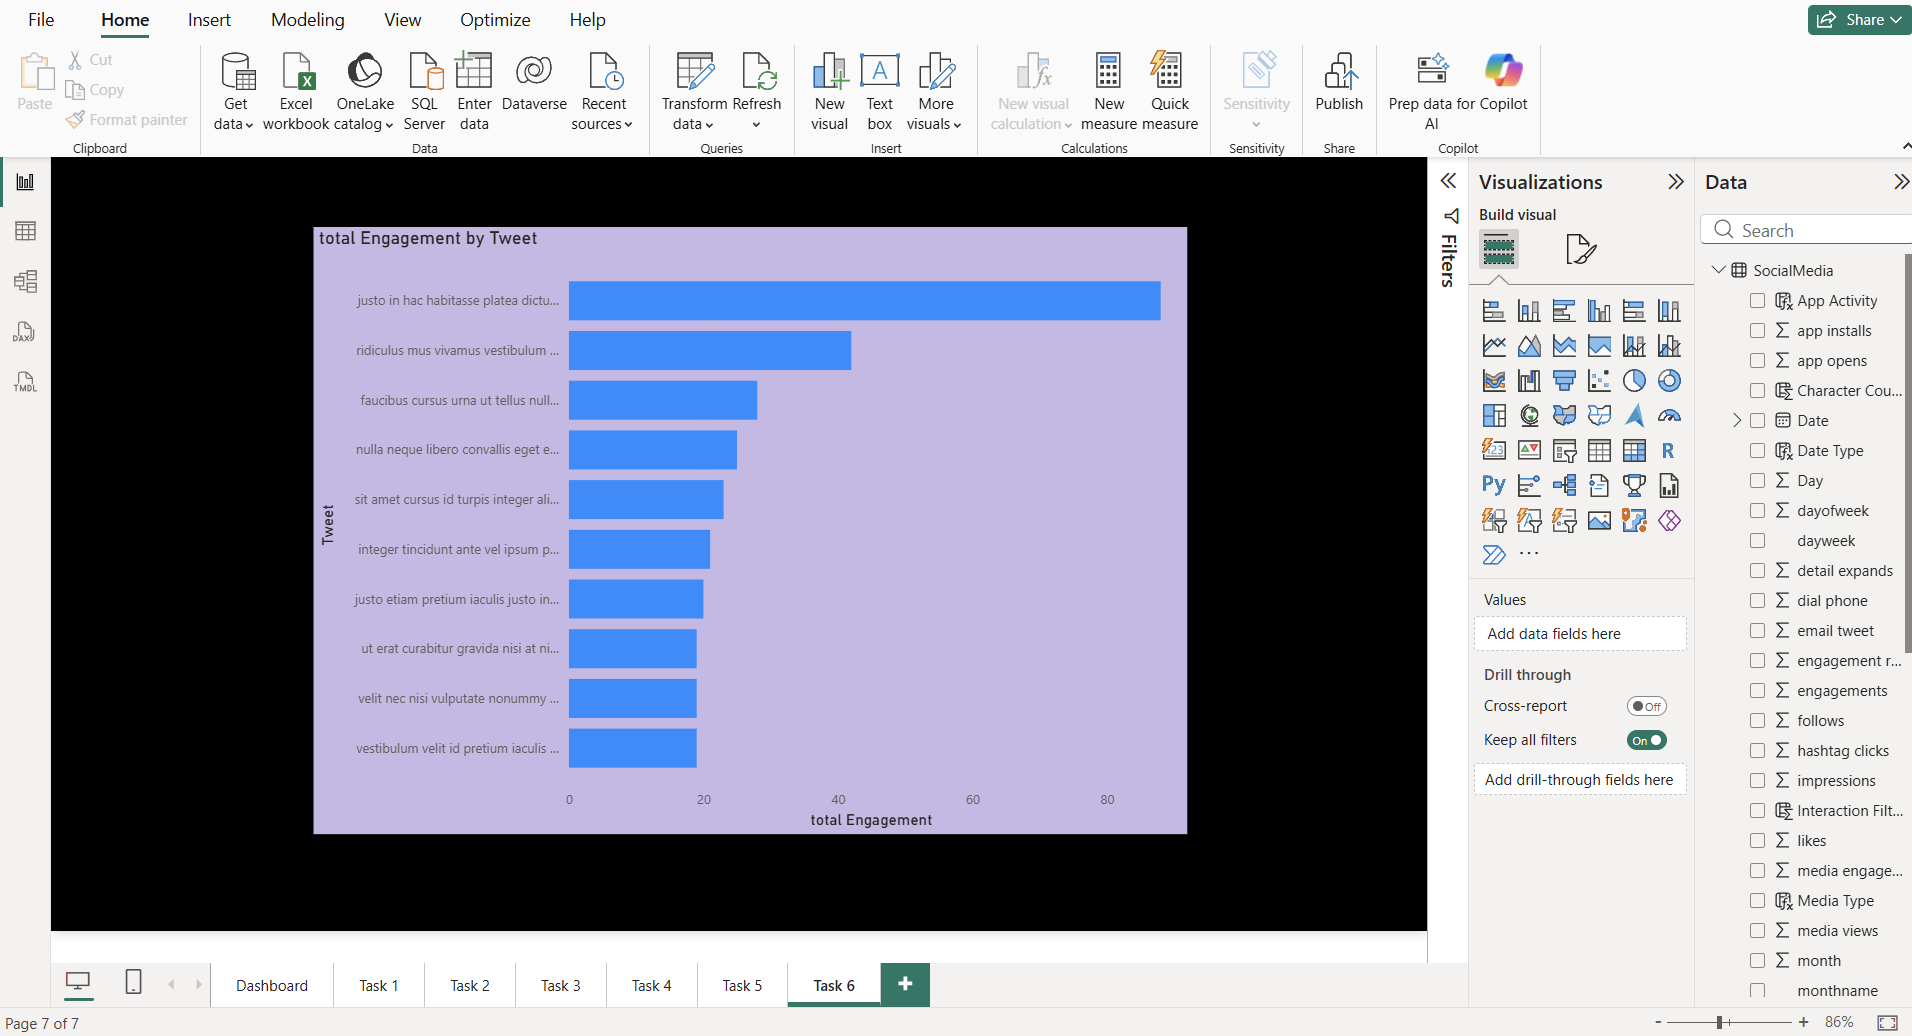

What the dashboard file says about the page in this screenshot:
{"tool":"powerbi","page":{"name":"Task 6","canvas":[1280,720],"ordinal":6},"visuals":[{"type":"clusteredBarChart","fields":{"Category":["SocialMedia.Tweet"],"Y":["SocialMedia.total Engagement"]},"box":[244.2,65.1,812.8,565.1],"z":0}]}

Visuals, with their boxes in screenshot pixels (x1, y1, x2, y2):
clusteredBarChart - SocialMedia.Tweet x SocialMedia.total Engagement: BBox(309, 154, 1421, 927)
